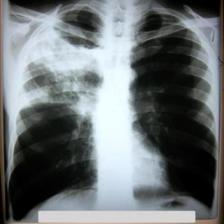tuberculosis: (4, 1, 218, 220)
